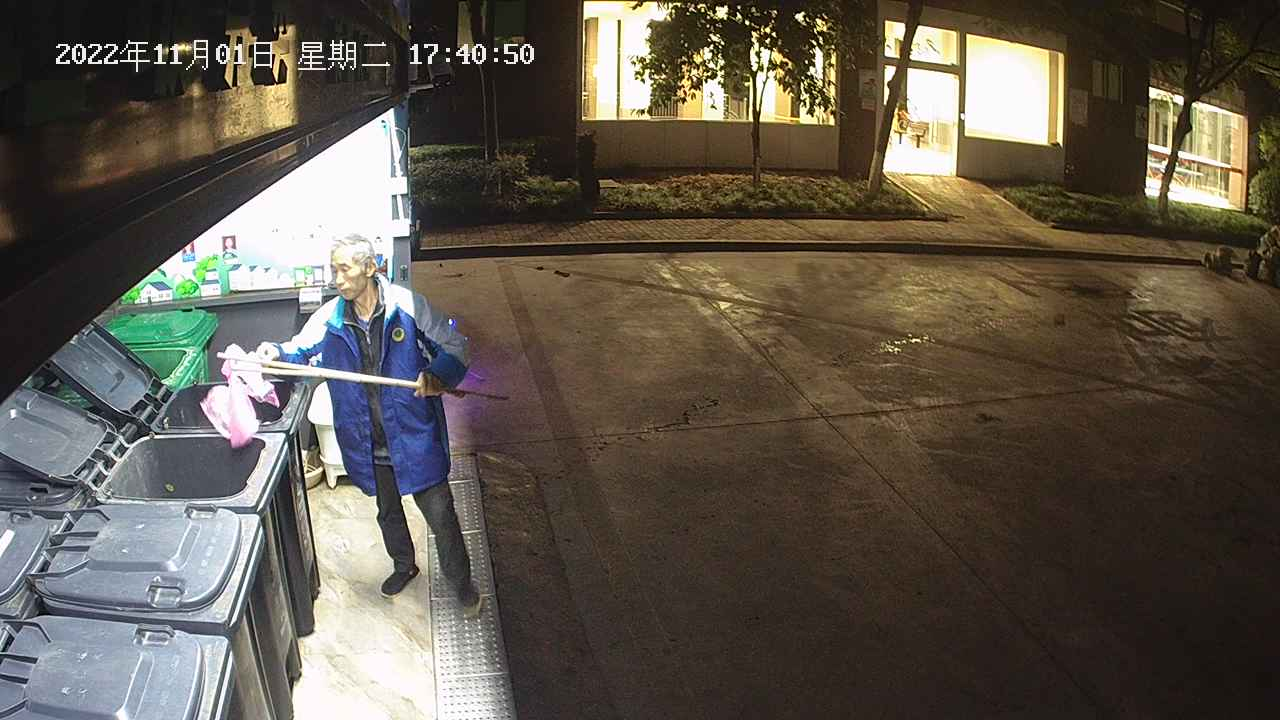garbage-bag: (197, 340, 282, 452)
worker: (253, 234, 485, 618)
